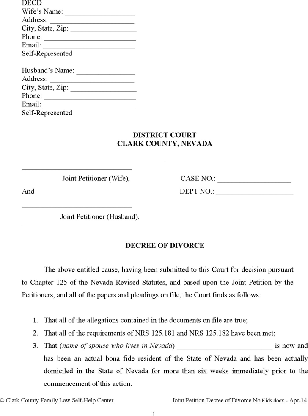textline: (21, 163, 133, 172), (43, 100, 136, 110), (21, 201, 133, 209), (176, 341, 274, 350), (49, 15, 136, 25), (49, 74, 136, 84), (43, 92, 137, 101), (44, 33, 137, 42), (43, 41, 136, 50), (216, 187, 295, 197), (217, 174, 292, 184), (64, 7, 136, 17), (69, 25, 138, 33), (70, 84, 138, 92), (75, 68, 136, 76)
